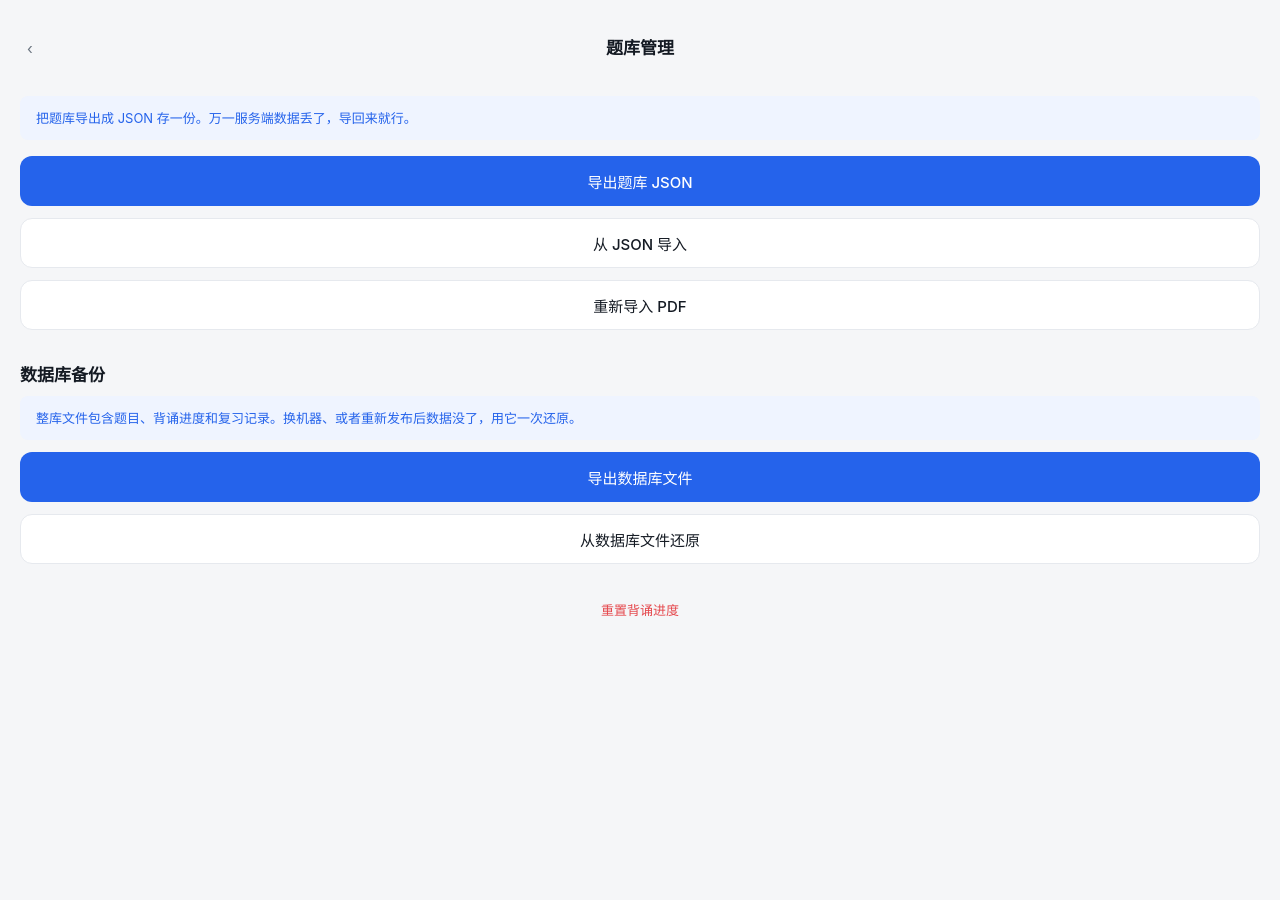
Test: Bank（导出 / 导入 JSON 兜底） › 导出：把题库写成 JSON 文件
Click the button "导出题库 JSON" at (640, 181), box x1=20 y1=156 x2=1260 y2=206
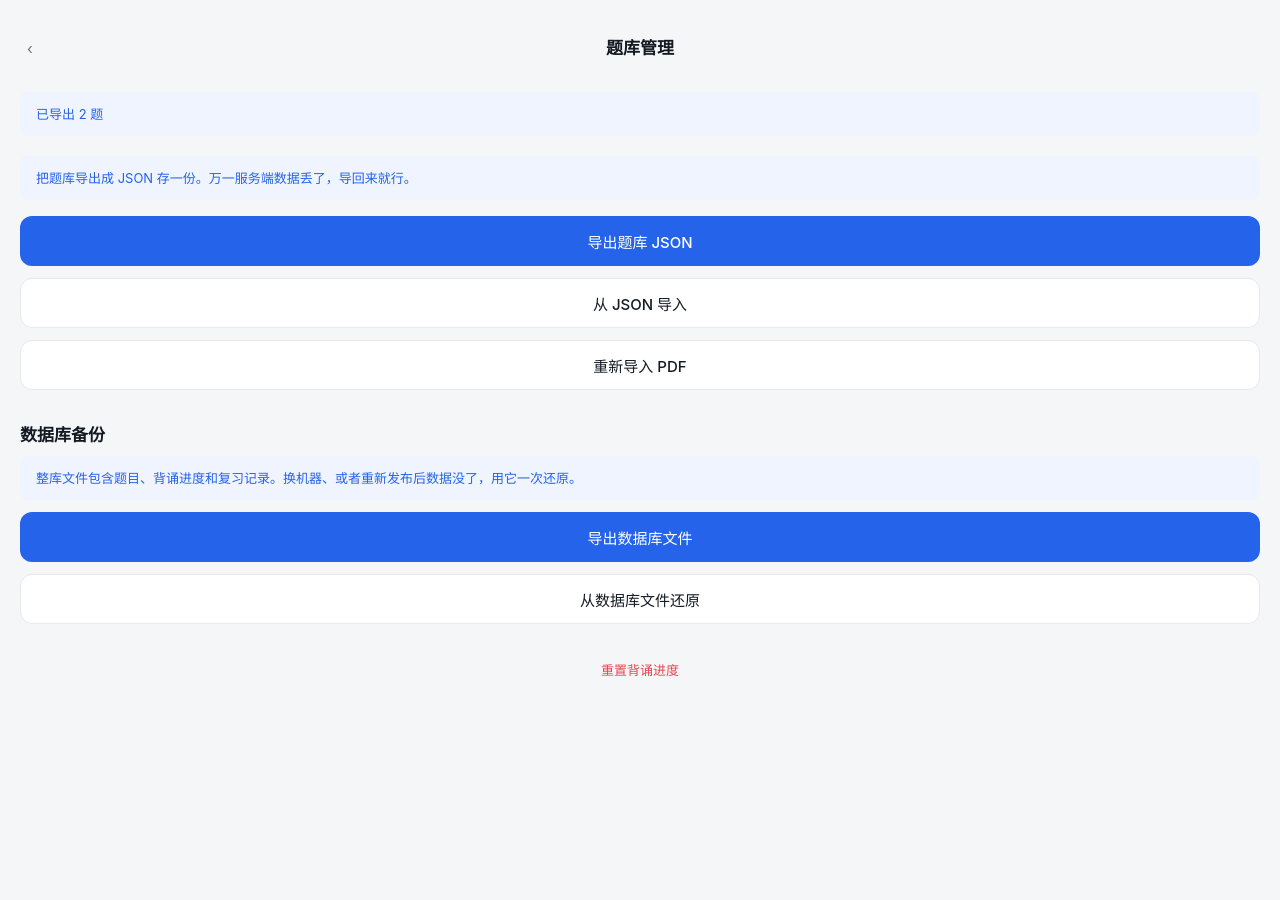
Expected: the text "已导出 2 题" is shown, x1=20 y1=92 x2=1260 y2=136
